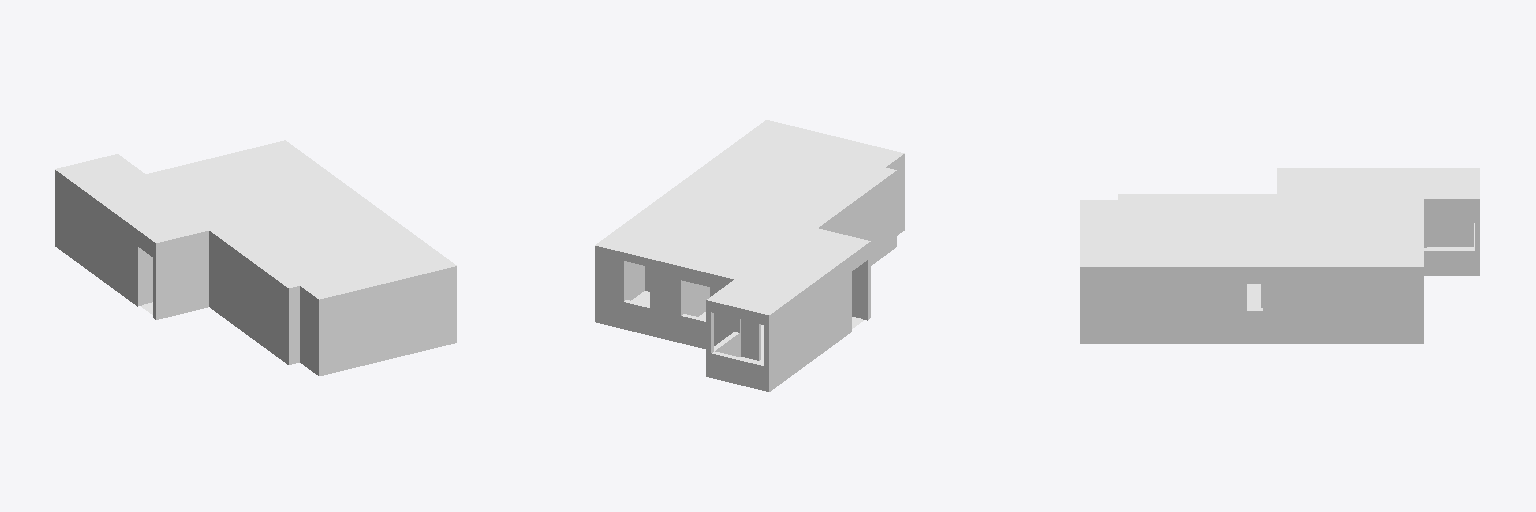
The model's file is render.obj.
3 views of the same model, side by side, from view 1: azimuth 30°, elevation 25°; view 2: azimuth 150°, elevation 25°; view 3: azimuth 270°, elevation 25° (orthographic).
Parts seen in each view (by area): view 1: room_7_248, wall_3_14, wall_6_32, wall_7_38, wall_32_188, room_6_246, room_3_240, room_2_238, room_8_250, wall_39_230, wall_4_20, room_1_236 (+4 smaller); view 2: room_7_248, wall_30_176, wall_32_188, room_6_246, wall_6_32, wall_29_170, room_3_240, wall_1_2, wall_39_230, room_2_238, room_8_250, room_1_236 (+8 smaller); view 3: room_7_248, wall_35_206, wall_31_182, wall_33_194, wall_34_200, room_6_246, wall_17_98, room_3_240, room_2_238, wall_2_8, room_8_250, wall_39_233 (+3 smaller).
Boxes of the visible parts, x1=… form: room_7_248: x1=91, y1=172, x2=364, y2=285; wall_3_14: x1=319, y1=266, x2=456, y2=375; wall_6_32: x1=209, y1=231, x2=288, y2=364; wall_7_38: x1=156, y1=231, x2=208, y2=319; wall_32_188: x1=85, y1=192, x2=135, y2=304; room_6_246: x1=292, y1=204, x2=428, y2=265; room_3_240: x1=223, y1=144, x2=323, y2=188; room_2_238: x1=170, y1=160, x2=265, y2=207; room_8_250: x1=304, y1=252, x2=447, y2=295; wall_39_230: x1=55, y1=170, x2=82, y2=265; wall_4_20: x1=300, y1=286, x2=318, y2=375; room_1_236: x1=63, y1=157, x2=141, y2=187; room_7_248: x1=684, y1=153, x2=887, y2=290; wall_30_176: x1=595, y1=246, x2=663, y2=338; wall_32_188: x1=800, y1=256, x2=850, y2=369; room_6_246: x1=701, y1=137, x2=810, y2=207; wall_6_32: x1=819, y1=171, x2=896, y2=265; wall_29_170: x1=664, y1=262, x2=713, y2=348; room_3_240: x1=603, y1=214, x2=705, y2=259; wall_1_2: x1=706, y1=300, x2=764, y2=390; wall_39_230: x1=767, y1=295, x2=797, y2=391; room_2_238: x1=670, y1=225, x2=764, y2=271; room_8_250: x1=752, y1=123, x2=895, y2=166; room_1_236: x1=715, y1=280, x2=789, y2=311; room_7_248: x1=1121, y1=169, x2=1418, y2=245; wall_35_206: x1=1123, y1=267, x2=1223, y2=343; wall_31_182: x1=1333, y1=267, x2=1423, y2=343; wall_33_194: x1=1280, y1=267, x2=1332, y2=343; wall_34_200: x1=1224, y1=267, x2=1279, y2=343; room_6_246: x1=1123, y1=234, x2=1277, y2=264; wall_17_98: x1=1080, y1=267, x2=1122, y2=343; room_3_240: x1=1333, y1=234, x2=1417, y2=264; room_2_238: x1=1317, y1=209, x2=1417, y2=231; wall_2_8: x1=1424, y1=199, x2=1479, y2=275; room_8_250: x1=1086, y1=202, x2=1122, y2=264; wall_39_233: x1=1427, y1=210, x2=1473, y2=246.
Size of the model in its own units: 773 by 280 by 1320.